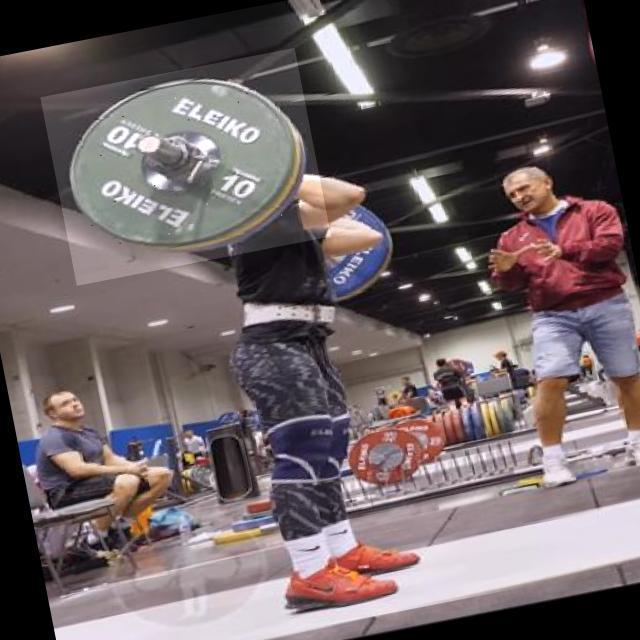barbell: (42, 49, 333, 287)
